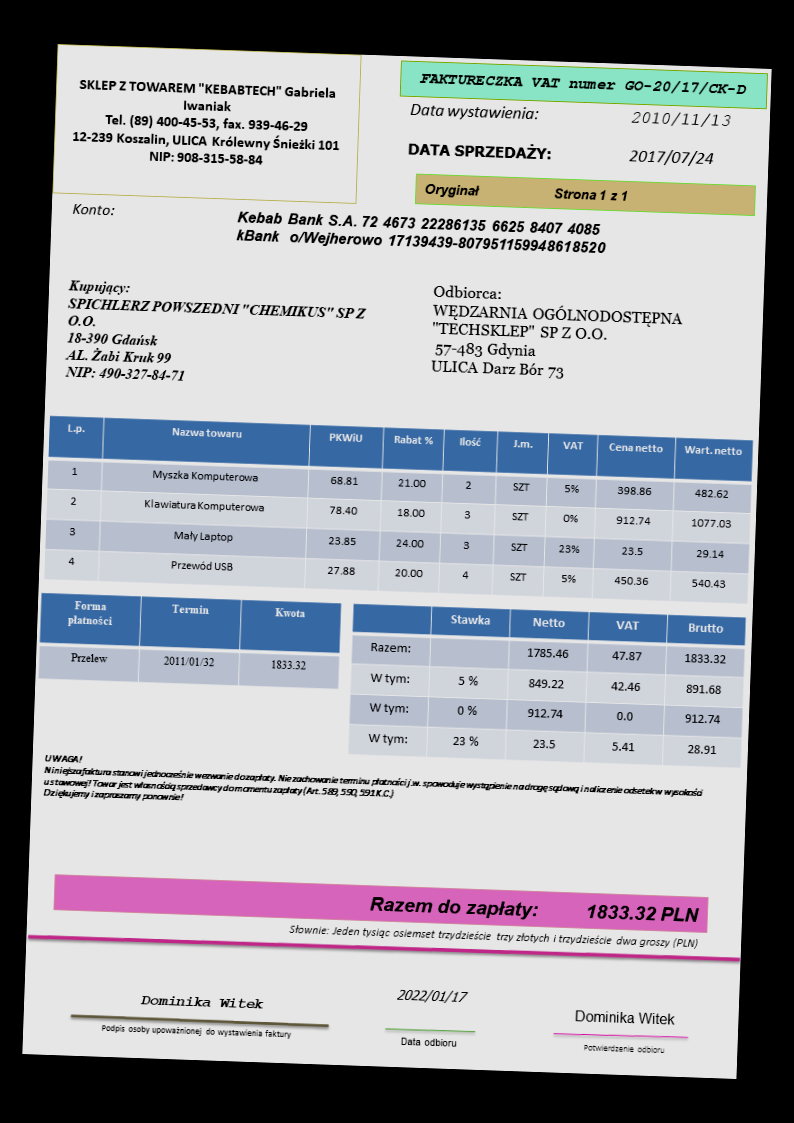Table: (41, 411, 755, 605), (345, 602, 747, 769), (37, 591, 341, 690)
TextBox: (39, 749, 704, 824), (63, 277, 371, 393), (428, 279, 688, 390), (70, 72, 346, 174), (232, 205, 610, 260), (287, 920, 703, 951), (365, 891, 703, 927), (415, 68, 753, 97), (420, 179, 631, 207), (98, 1021, 293, 1042), (405, 137, 554, 163), (408, 98, 540, 124), (136, 991, 267, 1013), (572, 1005, 679, 1028), (630, 106, 732, 129), (626, 145, 714, 170), (395, 982, 474, 1008), (581, 1039, 667, 1059), (68, 197, 120, 222), (395, 1034, 459, 1051)
